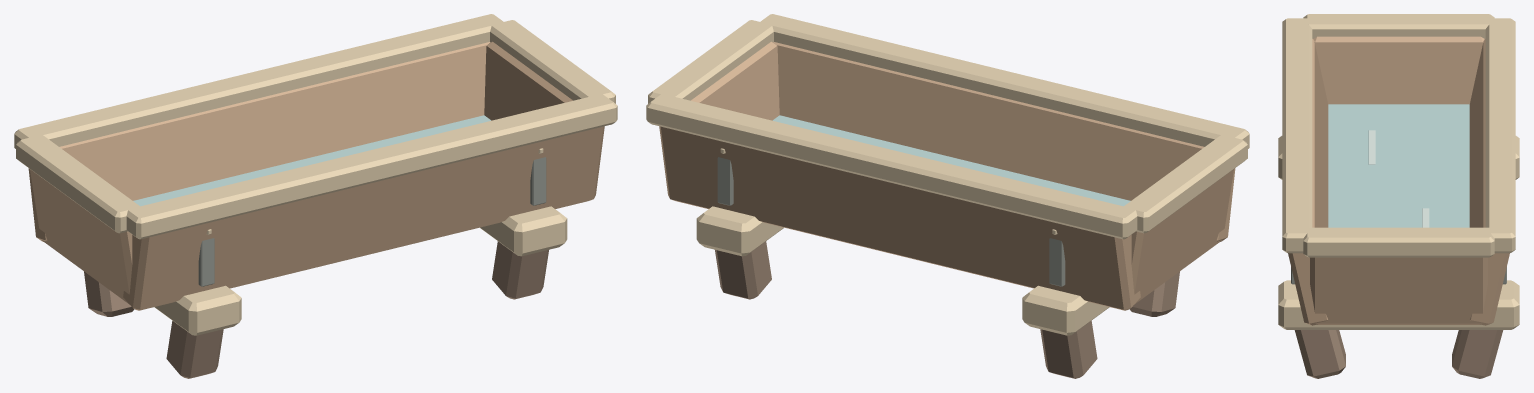
Rendered from crafted-cow-water-1.glb.
3 renders of one model, left to right at view 1: azimuth 30°, elevation 25°; view 2: azimuth 150°, elevation 25°; view 3: azimuth 270°, elevation 25°, orthographic. The views are drawn at different scales.
Visible parts, largest first — view 1: long-stave-1, long-stave, rim-long-1, rim-long, end-stave, rim-end, end-stave-1, rim-end-1, trestle-1, trestle, water, splayed-leg-3 (+4 smaller); view 2: long-stave, long-stave-1, rim-long, rim-long-1, end-stave, rim-end, end-stave-1, rim-end-1, trestle-1, trestle, water, splayed-leg-2 (+4 smaller); view 3: water, end-stave-1, end-stave, rim-long-1, rim-long, rim-end-1, rim-end, long-stave, long-stave-1, trestle-1, splayed-leg-2, splayed-leg-3 (+2 smaller).
Boxes of the visible parts, x1,y1,x2,y2 form: long-stave-1: (123, 126, 604, 310); long-stave: (28, 42, 490, 241); rim-long-1: (126, 94, 617, 239); rim-long: (14, 14, 503, 148); end-stave: (30, 169, 132, 304); rim-end: (16, 135, 139, 233); end-stave-1: (484, 41, 572, 120); rim-end-1: (490, 20, 615, 103); trestle-1: (480, 206, 567, 256); trestle: (154, 285, 241, 335); water: (133, 115, 490, 206); splayed-leg-3: (492, 241, 548, 299); long-stave: (659, 126, 1140, 310); long-stave-1: (773, 42, 1235, 241); rim-long: (646, 94, 1137, 239); rim-long-1: (760, 14, 1249, 148); end-stave: (1131, 169, 1233, 304); rim-end: (1124, 135, 1247, 233); end-stave-1: (691, 41, 779, 120); rim-end-1: (648, 20, 773, 103); trestle-1: (696, 206, 783, 256); trestle: (1022, 285, 1109, 335); water: (773, 115, 1130, 206); splayed-leg-2: (715, 241, 771, 299); water: (1328, 104, 1469, 227); end-stave-1: (1310, 257, 1487, 324); end-stave: (1313, 36, 1484, 104); rim-long-1: (1282, 18, 1312, 253); rim-long: (1485, 18, 1515, 253); rim-end-1: (1303, 227, 1494, 257); rim-end: (1303, 14, 1494, 38); long-stave: (1469, 39, 1509, 325); long-stave-1: (1288, 39, 1328, 325); trestle-1: (1278, 280, 1519, 329); splayed-leg-2: (1452, 330, 1503, 378); splayed-leg-3: (1294, 330, 1345, 378).
Size of the model in its own units: 1.6 by 0.5736 by 0.72.
